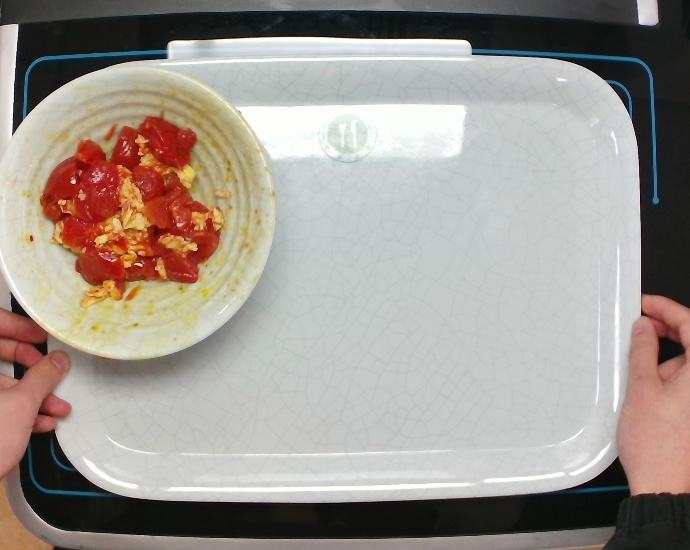JYsf-Xiao_Tang_Wan: (1, 60, 277, 366)
